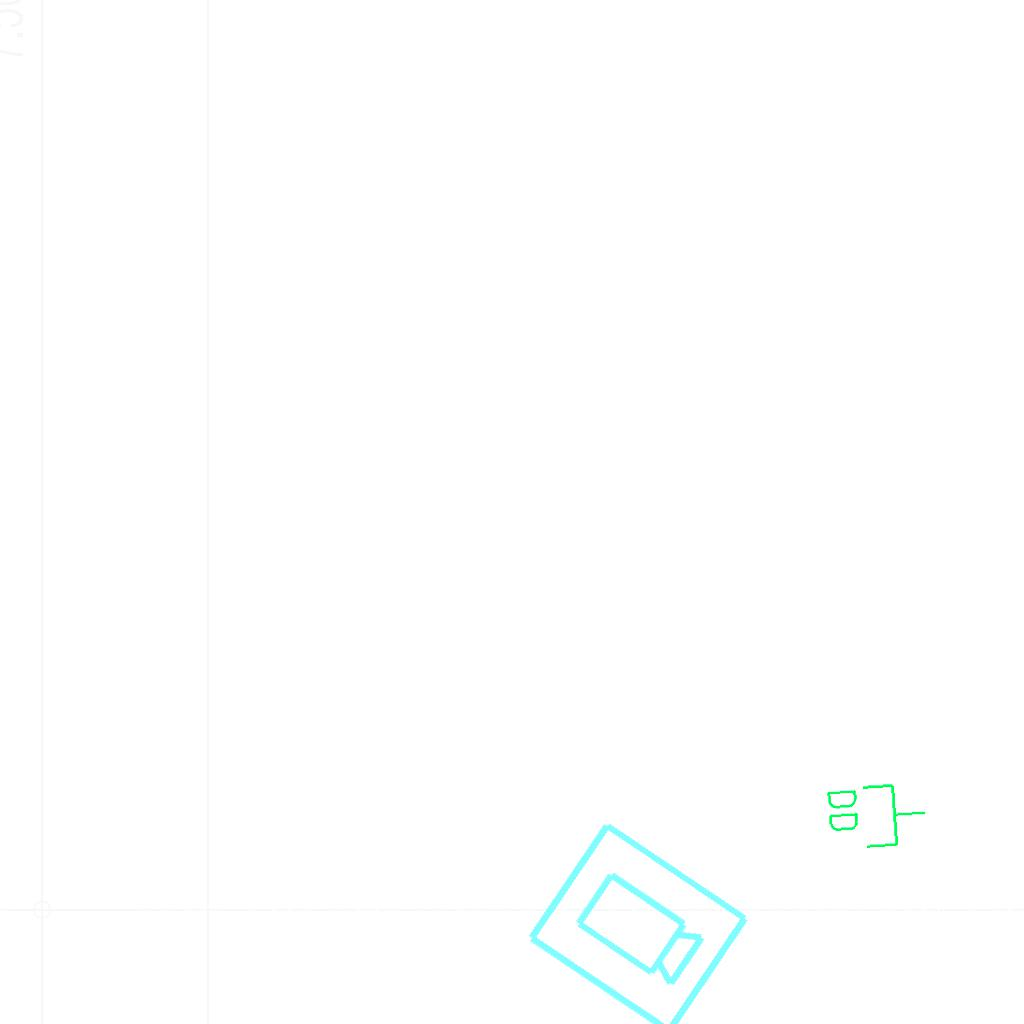Datenanschluss_zweifach: (822, 777, 931, 854)
KFO_Kamera_mit_Festobjektiv: (518, 814, 756, 1024)
